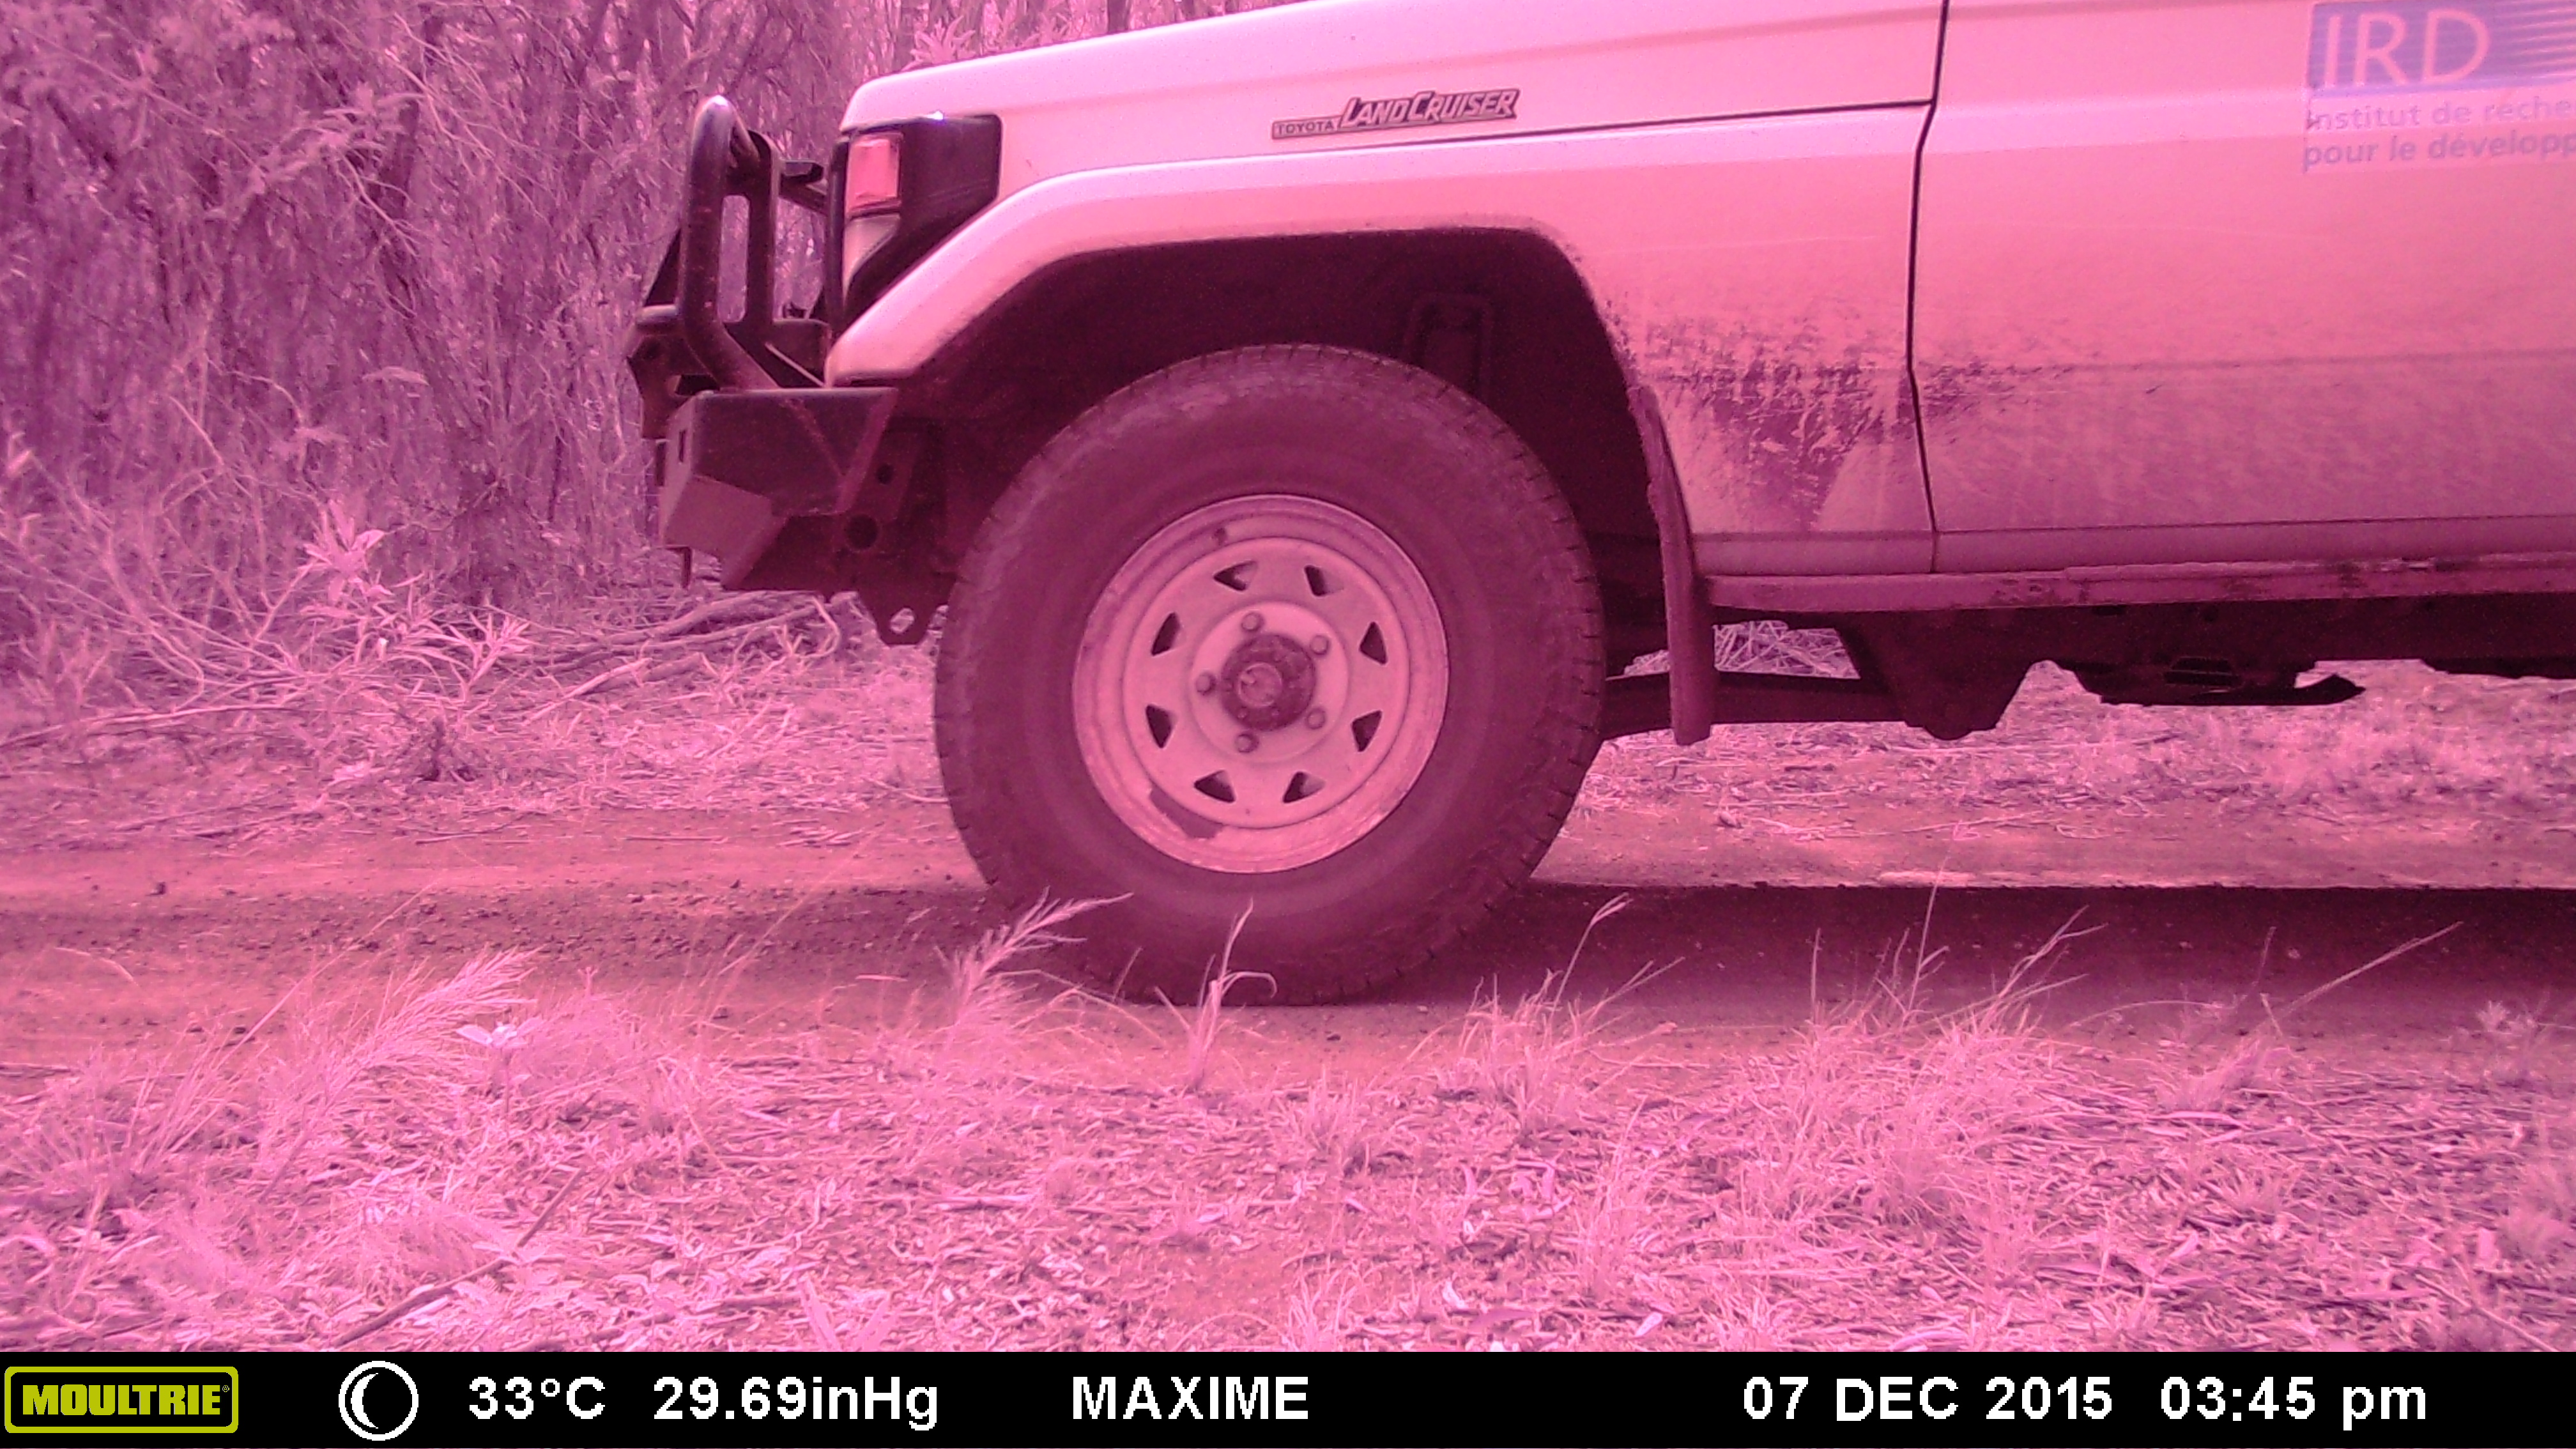Car: (621, 2, 2572, 1021)
